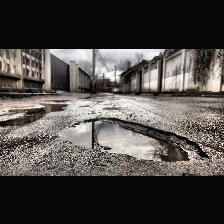pothole: (58, 116, 208, 162)
